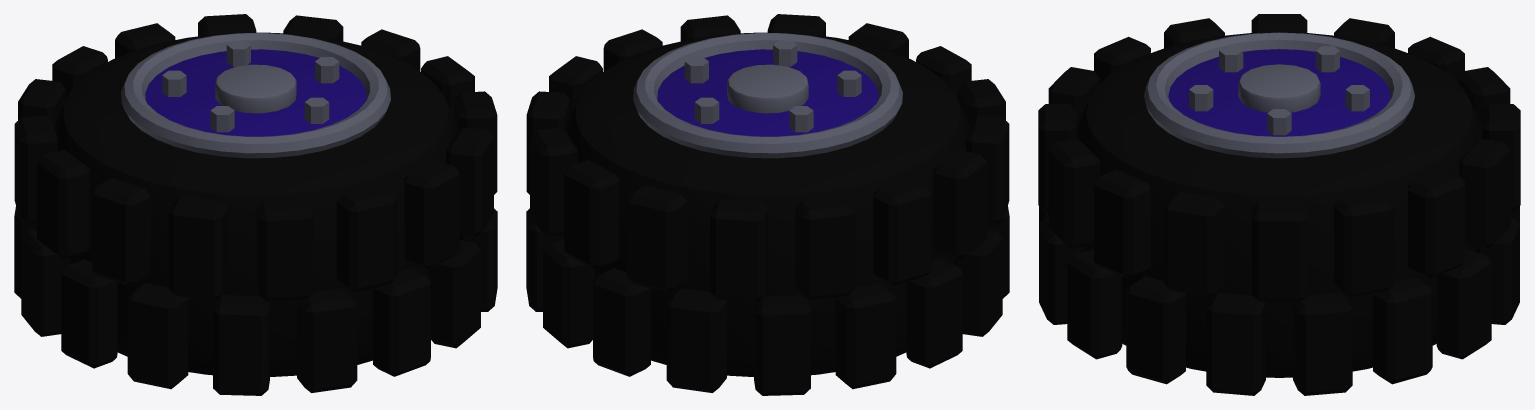
Rendered from wheel.obj.
The picture shows the model from 3 angles, left to right: view 1: azimuth 30°, elevation 25°; view 2: azimuth 150°, elevation 25°; view 3: azimuth 270°, elevation 25°; orthographic projection.
Parts seen in each view (by area): view 1: left_front_wheel; view 2: left_front_wheel; view 3: left_front_wheel.
Part boxes in pixels (x1,y1,x2,y2): left_front_wheel: (14,14,497,395); left_front_wheel: (526,14,1009,395); left_front_wheel: (1038,14,1520,395).
Size of the model in its own units: 0.1384 by 0.08 by 0.1384.
